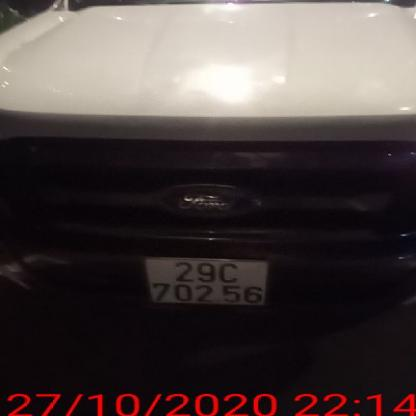biensoxe: (126, 250, 307, 318)
